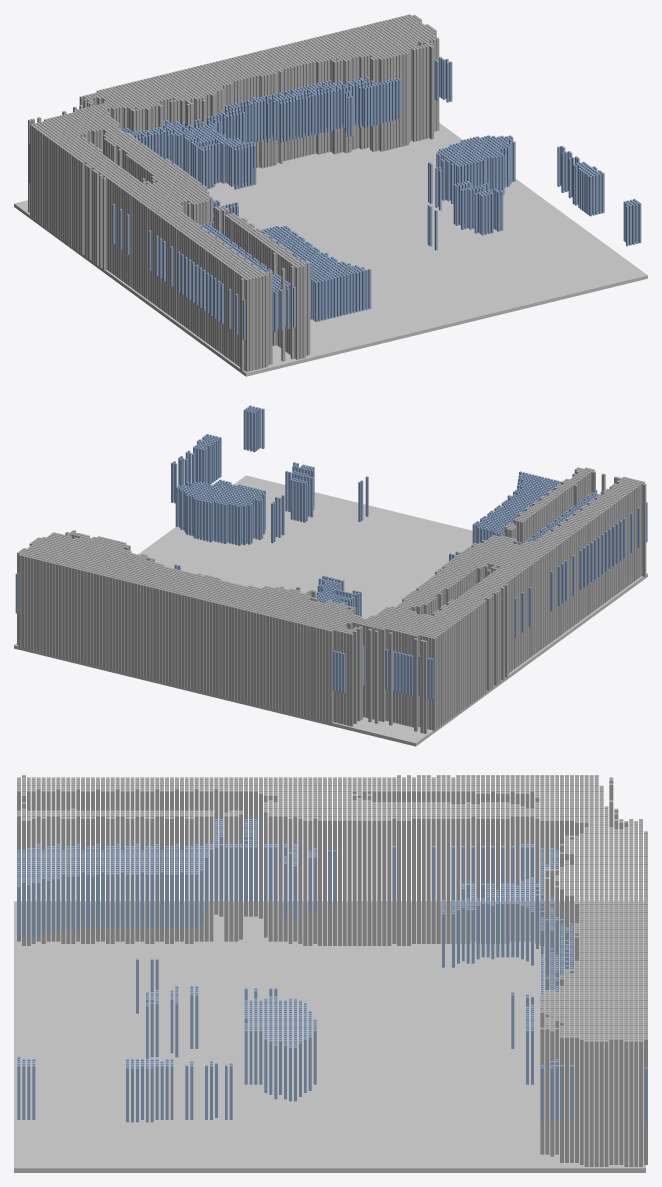
Rendered from 5078623b-bce8-4bbd-9c59-2f20f5ad6950.glb.
The picture shows the model from 3 angles, top to bottom: view 1: azimuth 30°, elevation 25°; view 2: azimuth 150°, elevation 25°; view 3: azimuth 270°, elevation 25°; orthographic projection. The views are drawn at different scales.
Visible parts, largest first — view 1: world; view 2: world; view 3: world.
Part boxes in pixels (x1,y1,x2,y2): world: (14, 14, 647, 376); world: (14, 405, 647, 746); world: (14, 775, 647, 1172).
Bounding box in the file's own units: 12.84 × 2.9 × 12.84.
